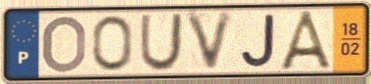A: (277, 9, 338, 72)
J: (239, 12, 278, 70)
O: (40, 13, 89, 75), (90, 14, 135, 73)
U: (138, 12, 186, 74)
V: (182, 7, 238, 75)
